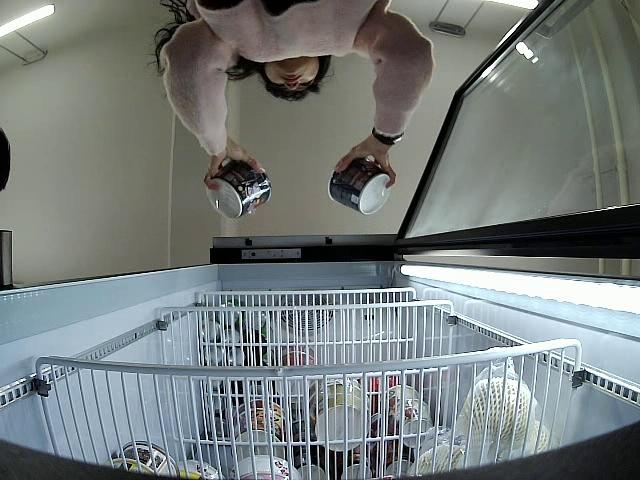00_hand: (335, 137, 397, 191), (203, 143, 267, 187)
07_buldak_L: (205, 160, 273, 220), (327, 158, 387, 213)
